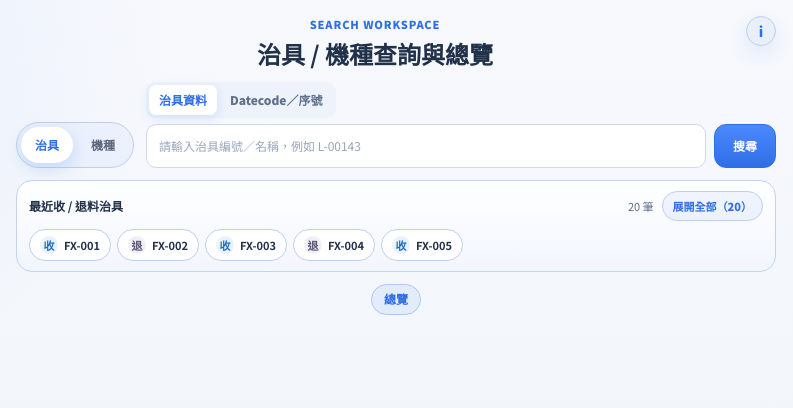
Test: SearchHeroSection › shows five recent fixtures first, then expands and collapses with matching labels
Check: the number of buttons with class "shortcut-chip" is 5, box left=29, top=229, right=111, bottom=261; left=117, top=229, right=199, bottom=261; left=205, top=229, right=287, bottom=261; left=293, top=229, right=375, bottom=261; left=381, top=229, right=463, bottom=261
Click the button with class "shortcut-toggle-btn": (712, 206) left=662, top=191, right=763, bottom=221
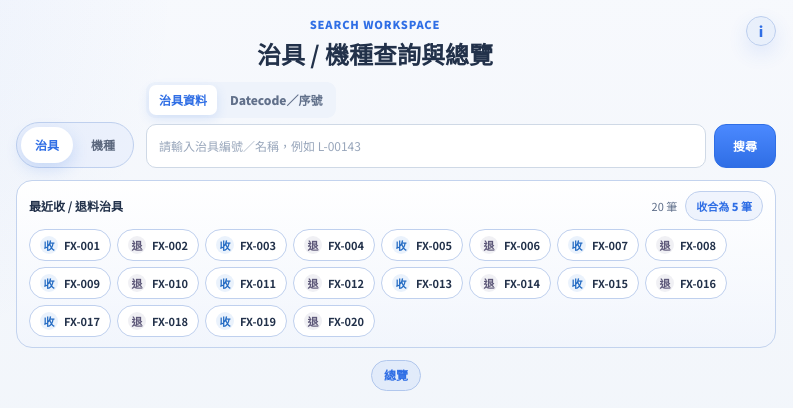
Check: the number of buttons with class "shortcut-chip" is 20
Check: the button with class "shortcut-toggle-btn" reads "收合為 5 筆"
Check: the button with class "shortcut-toggle-btn" is expanded
Click the button with class "shortcut-toggle-btn": (724, 206) left=685, top=191, right=763, bottom=221
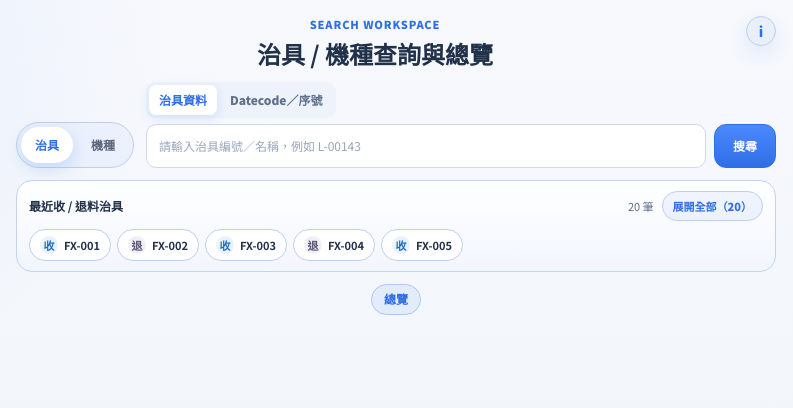
Check: the number of buttons with class "shortcut-chip" is 5, box left=29, top=229, right=111, bottom=261; left=117, top=229, right=199, bottom=261; left=205, top=229, right=287, bottom=261; left=293, top=229, right=375, bottom=261; left=381, top=229, right=463, bottom=261
Check: the button with class "shortcut-toggle-btn" reads "展開全部（20）", box left=662, top=191, right=763, bottom=221
